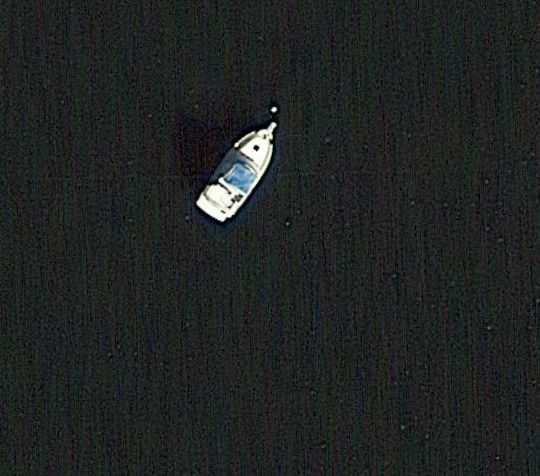boat: (190, 117, 284, 229)
